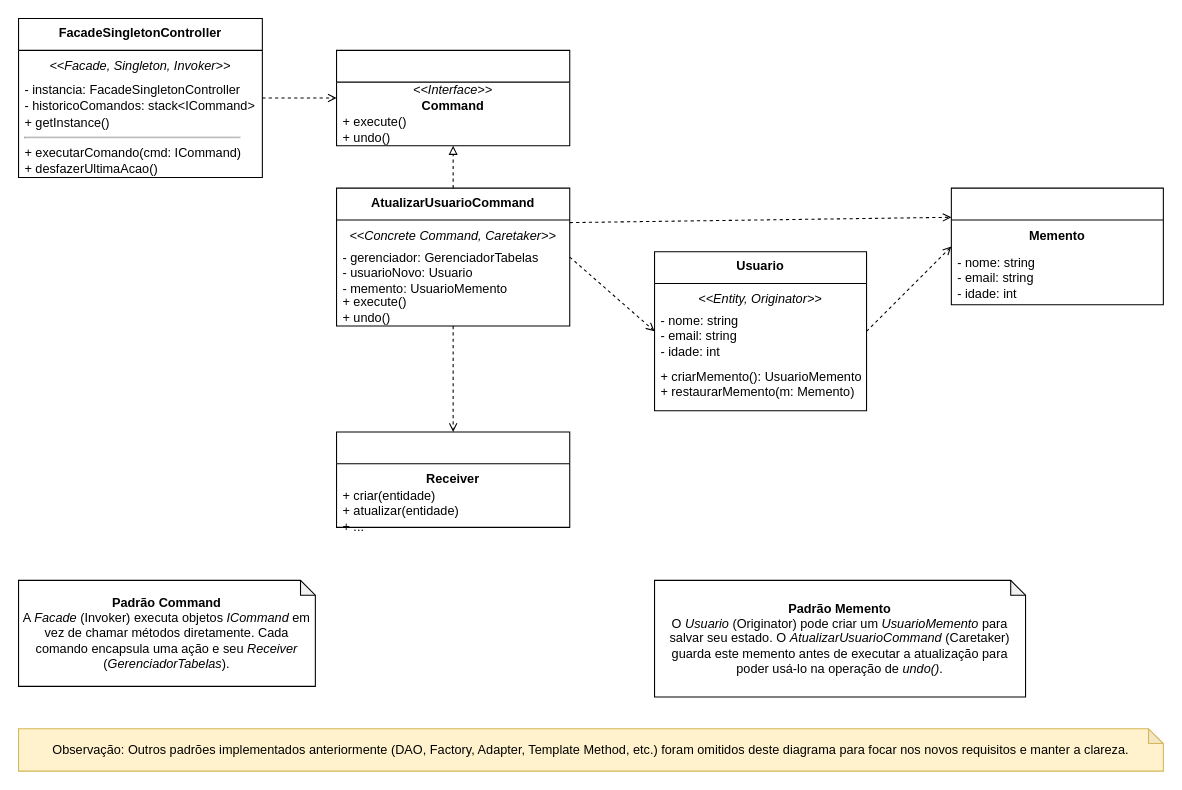
The diagram is 1182 pixels wide and 790 high, and some of its shapes have lost their labels. The box of each missing label's shape, as (x1, y1, x2, y2) in pixels:
GerenciadorTabelas: (335, 431, 570, 527)
ICommand: (335, 49, 570, 146)
UsuarioMemento: (950, 187, 1163, 305)
